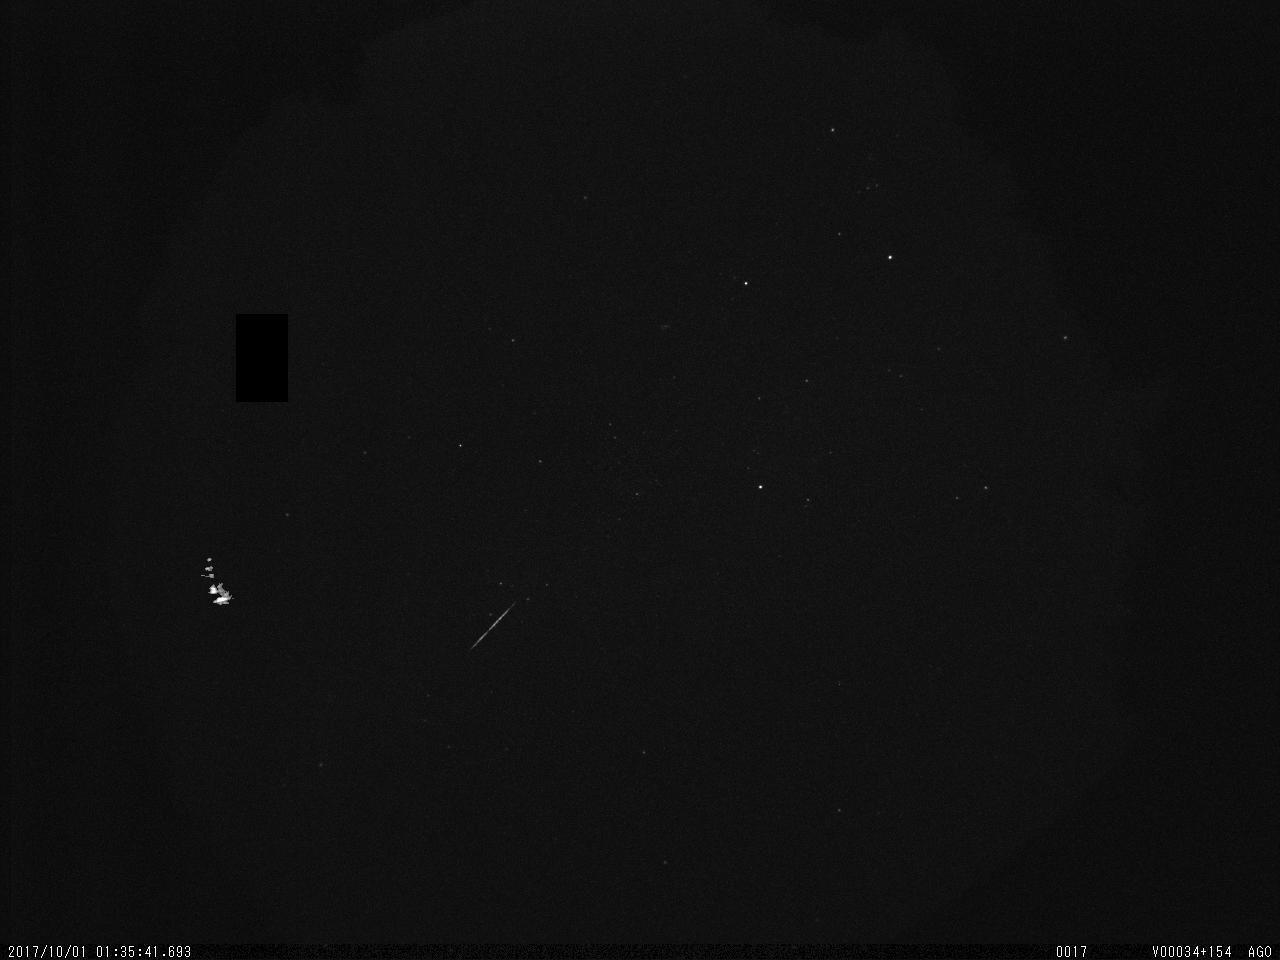TLE: (196, 548, 251, 616)
